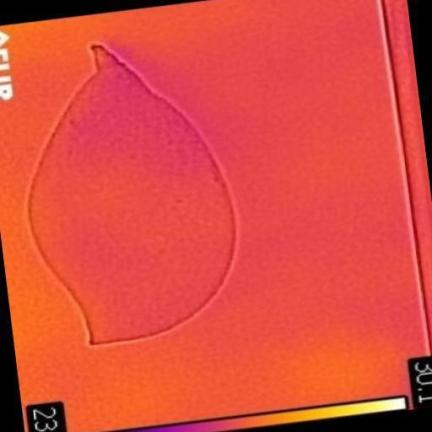mango: (30, 46, 237, 343)
